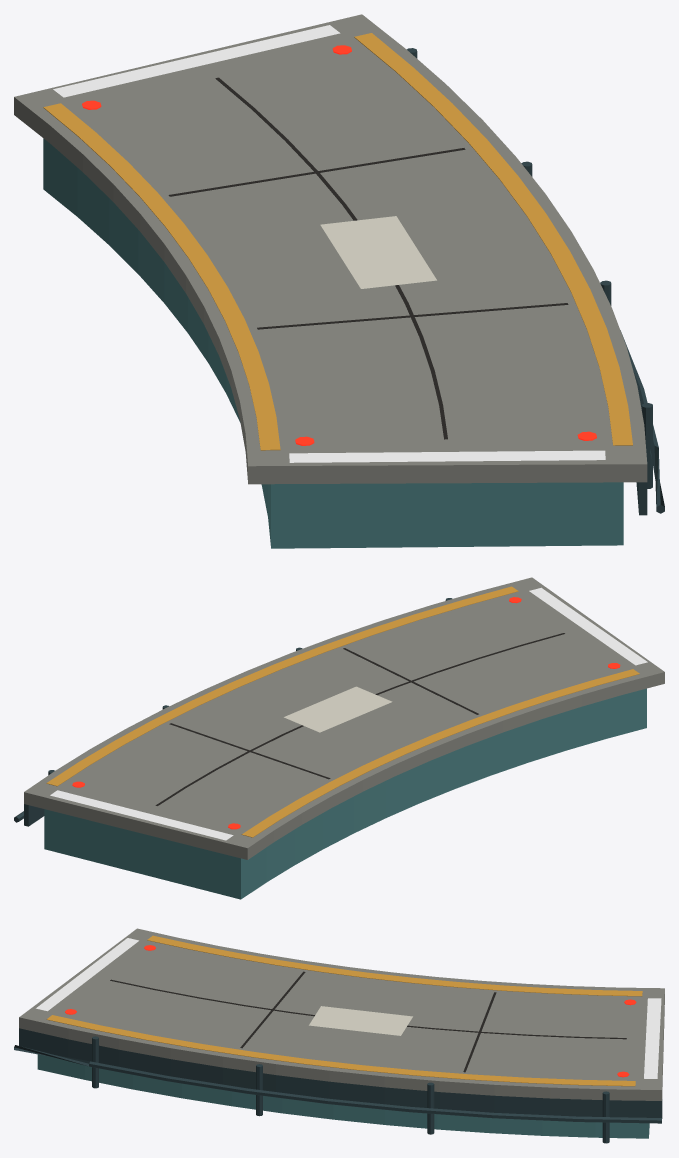
Rendered from core-retracting-segment.glb.
The picture shows the model from 3 angles, top to bottom: view 1: azimuth 30°, elevation 25°; view 2: azimuth 150°, elevation 25°; view 3: azimuth 270°, elevation 25°; orthographic projection. The views are drawn at different scales.
Parts seen in each view (by area): view 1: core-retracting-segment__retracting-deck__concrete, core-retracting-segment__retracting-deck__petrol, core-retracting-segment__retracting-deck__amber, core-retracting-segment__retracting-deck__decal-hazard, core-retracting-segment__retracting-deck__decal-ivory, core-retracting-segment__retracting-deck__soot, core-retracting-segment__retracting-deck__steel; view 2: core-retracting-segment__retracting-deck__concrete, core-retracting-segment__retracting-deck__petrol, core-retracting-segment__retracting-deck__amber, core-retracting-segment__retracting-deck__decal-hazard, core-retracting-segment__retracting-deck__decal-ivory, core-retracting-segment__retracting-deck__soot, core-retracting-segment__retracting-deck__steel; view 3: core-retracting-segment__retracting-deck__concrete, core-retracting-segment__retracting-deck__steel, core-retracting-segment__retracting-deck__petrol, core-retracting-segment__retracting-deck__amber, core-retracting-segment__retracting-deck__decal-hazard, core-retracting-segment__retracting-deck__decal-ivory, core-retracting-segment__retracting-deck__soot.
Boxes of the visible parts, x1,y1,x2,y2 form: core-retracting-segment__retracting-deck__concrete: (14,14,647,484); core-retracting-segment__retracting-deck__petrol: (43,138,623,548); core-retracting-segment__retracting-deck__amber: (43,33,632,450); core-retracting-segment__retracting-deck__decal-hazard: (53,25,605,462); core-retracting-segment__retracting-deck__decal-ivory: (320,216,436,288); core-retracting-segment__retracting-deck__soot: (168,77,568,439); core-retracting-segment__retracting-deck__steel: (407,48,664,515); core-retracting-segment__retracting-deck__concrete: (24,577,664,859); core-retracting-segment__retracting-deck__petrol: (44,688,646,899); core-retracting-segment__retracting-deck__amber: (46,586,639,837); core-retracting-segment__retracting-deck__decal-hazard: (50,587,647,840); core-retracting-segment__retracting-deck__decal-ivory: (284,686,392,732); core-retracting-segment__retracting-deck__soot: (155,633,564,805); core-retracting-segment__retracting-deck__steel: (14,598,452,826); core-retracting-segment__retracting-deck__concrete: (19,928,664,1100); core-retracting-segment__retracting-deck__steel: (14,1028,662,1143); core-retracting-segment__retracting-deck__petrol: (37,1054,649,1138); core-retracting-segment__retracting-deck__amber: (46,935,642,1086); core-retracting-segment__retracting-deck__decal-hazard: (36,938,661,1078); core-retracting-segment__retracting-deck__decal-ivory: (309,1006,412,1035); core-retracting-segment__retracting-deck__soot: (110,971,626,1072).
Bounding box in the file's own units: 3.91 × 0.608 × 6.48.
